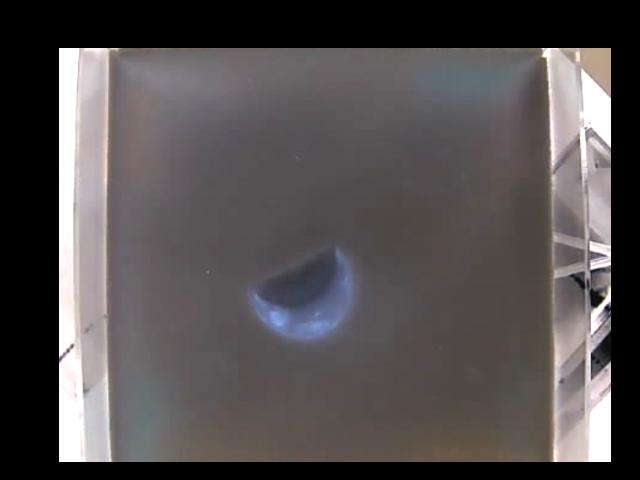Mooli: (250, 242, 351, 336)
